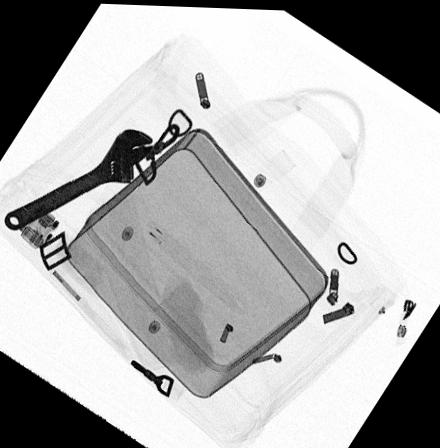Wrench: (0, 128, 157, 232)
